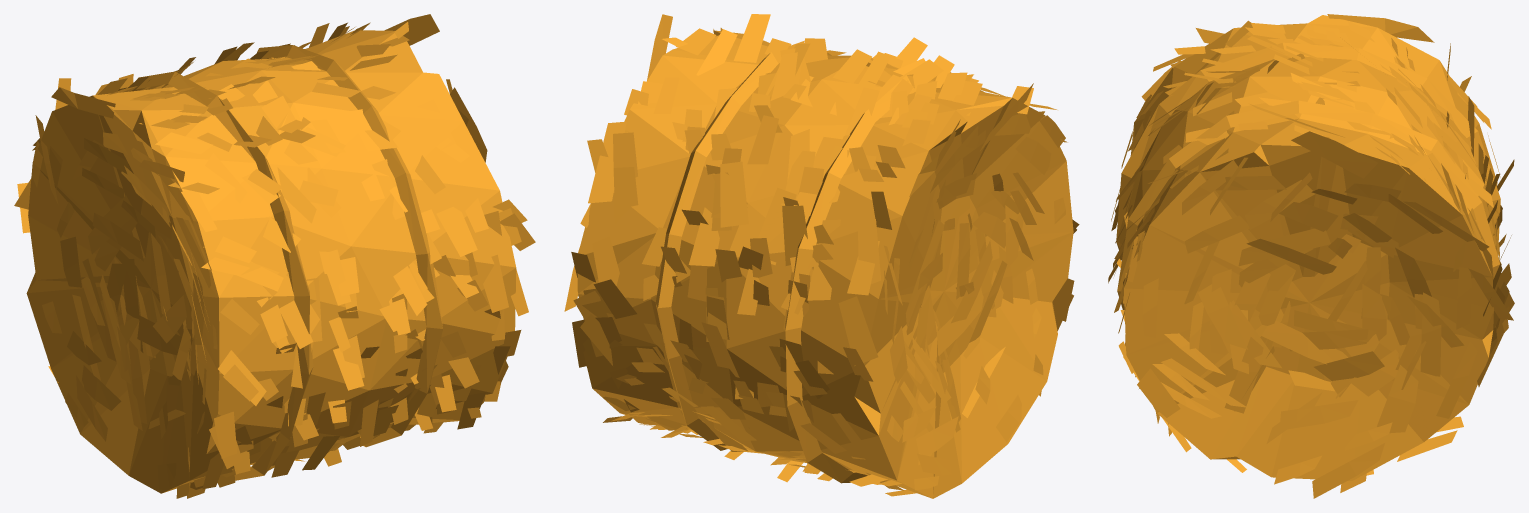
The model's file is SM_Haybale_Round_A.fbx.
The picture shows the model from 3 angles, left to right: view 1: azimuth 30°, elevation 25°; view 2: azimuth 150°, elevation 25°; view 3: azimuth 270°, elevation 25°; orthographic projection. The views are drawn at different scales.
Parts seen in each view (by area): view 1: haybale-round-a; view 2: haybale-round-a; view 3: haybale-round-a.
Boxes of the visible parts, <box> form: haybale-round-a: <box>14,14,535,498</box>; haybale-round-a: <box>564,14,1079,498</box>; haybale-round-a: <box>1108,14,1514,498</box>.
Bounding box in the file's own units: 1.65 × 1.98 × 1.95.
